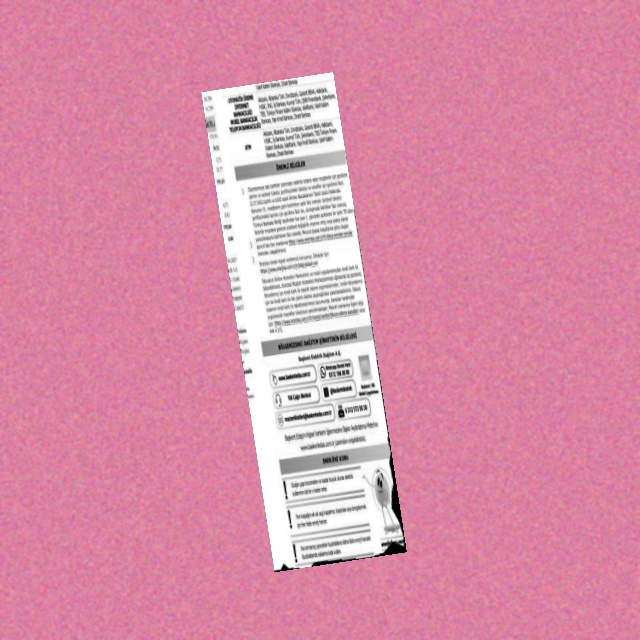electricity-bill: (201, 72, 407, 572)
